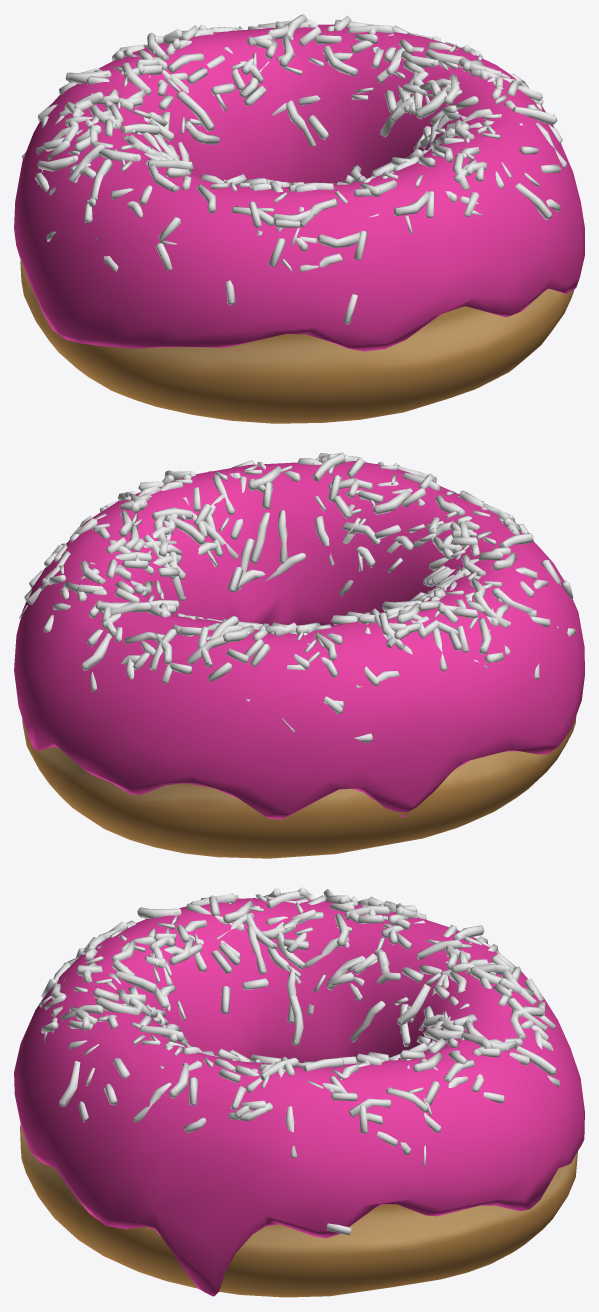
File: Donut_geometry_nodes_1color_small.glb
3 views of the same model, one above another, from view 1: azimuth 30°, elevation 25°; view 2: azimuth 150°, elevation 25°; view 3: azimuth 270°, elevation 25° (orthographic). The views are drawn at different scales.
Parts seen in each view (by area): view 1: glaze, topping, donut; view 2: glaze, topping, donut; view 3: glaze, topping, donut.
Part boxes in pixels (x1=…): glaze: x1=14, y1=24, x2=584, y2=351; topping: x1=22, y1=14, x2=566, y2=324; donut: x1=20, y1=258, x2=574, y2=423; glaze: x1=14, y1=461, x2=584, y2=819; topping: x1=19, y1=452, x2=575, y2=742; donut: x1=22, y1=716, x2=576, y2=858; glaze: x1=14, y1=898, x2=584, y2=1296; topping: x1=39, y1=887, x2=560, y2=1235; donut: x1=20, y1=1124, x2=577, y2=1297.
Bounding box in the file's own units: 0.1534 × 0.0717 × 0.1531.
3 materials, 1 textured.
